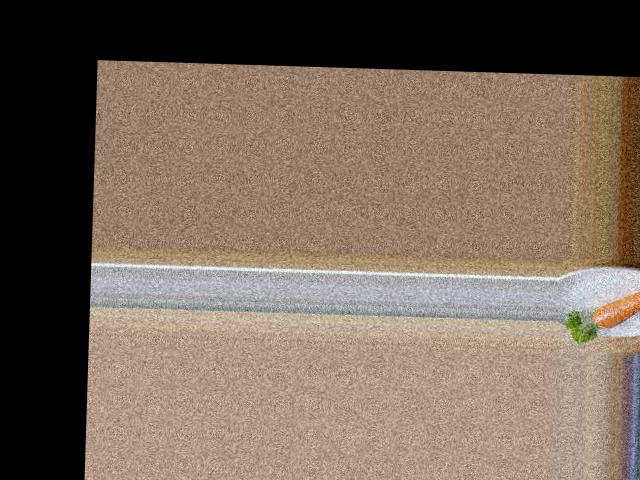carrot: (584, 280, 640, 334)
